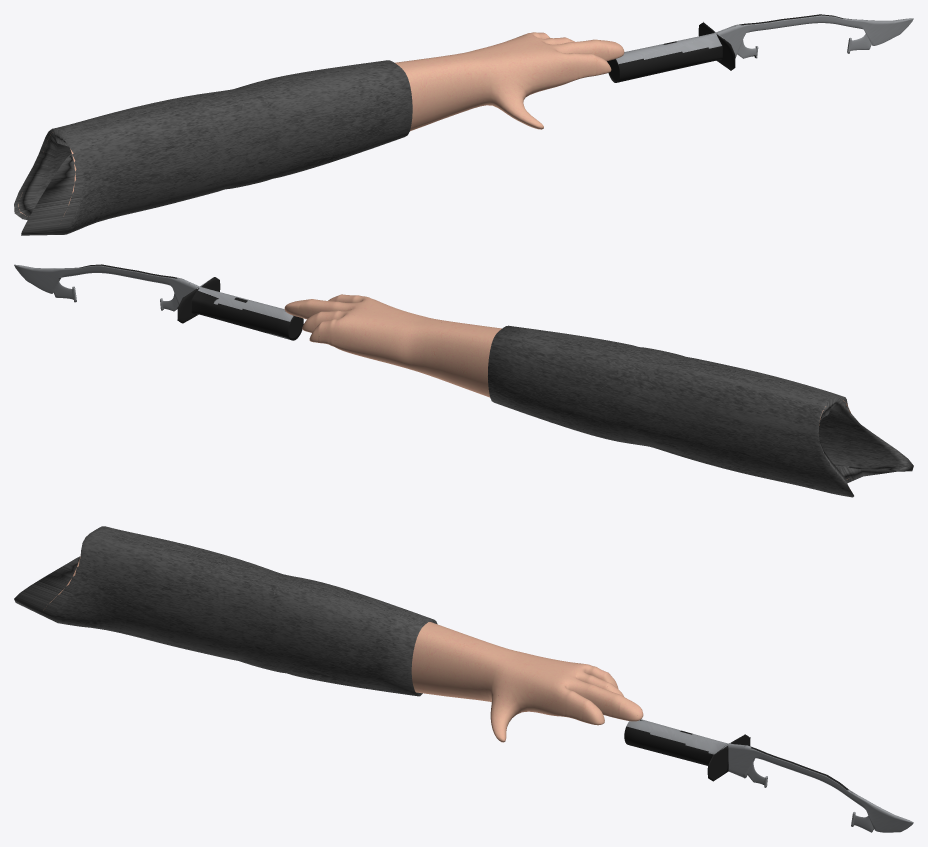
Rendered from KnifeHand.glb.
3 views of the same model, one above another, from view 1: azimuth 30°, elevation 25°; view 2: azimuth 150°, elevation 25°; view 3: azimuth 330°, elevation 25° (orthographic).
Visible parts, largest first — view 1: StunKnife.001, StunKnife.003, StunKnife; view 2: StunKnife.001, StunKnife.003, StunKnife; view 3: StunKnife.001, StunKnife.003, StunKnife.
Part boxes in pixels (x1,y1,x2,y2): StunKnife.001: [14, 60, 412, 235]; StunKnife.003: [18, 32, 624, 216]; StunKnife: [607, 14, 913, 82]; StunKnife.001: [488, 325, 913, 497]; StunKnife.003: [284, 294, 850, 489]; StunKnife: [14, 264, 303, 340]; StunKnife.001: [14, 526, 437, 696]; StunKnife.003: [43, 556, 643, 742]; StunKnife: [624, 719, 913, 832].
Bounding box in the file's own units: 1.48 × 0.1621 × 0.1633.
Materials: 3 (3 with a texture image).
